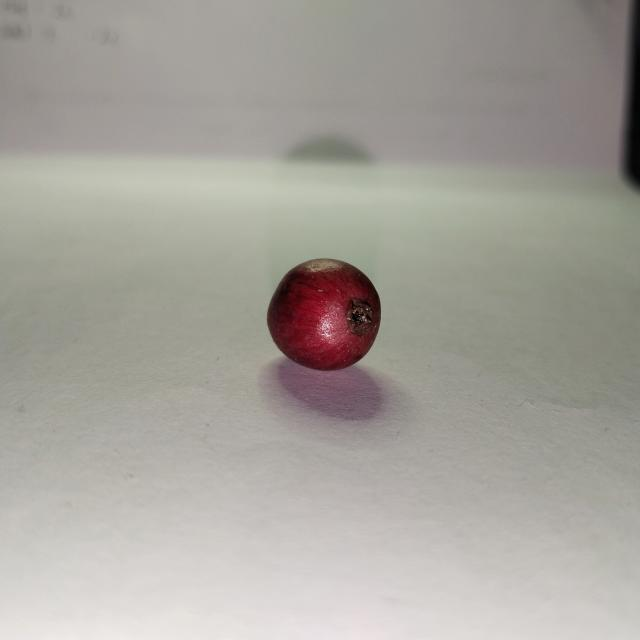Infectado: (268, 259, 380, 371)
